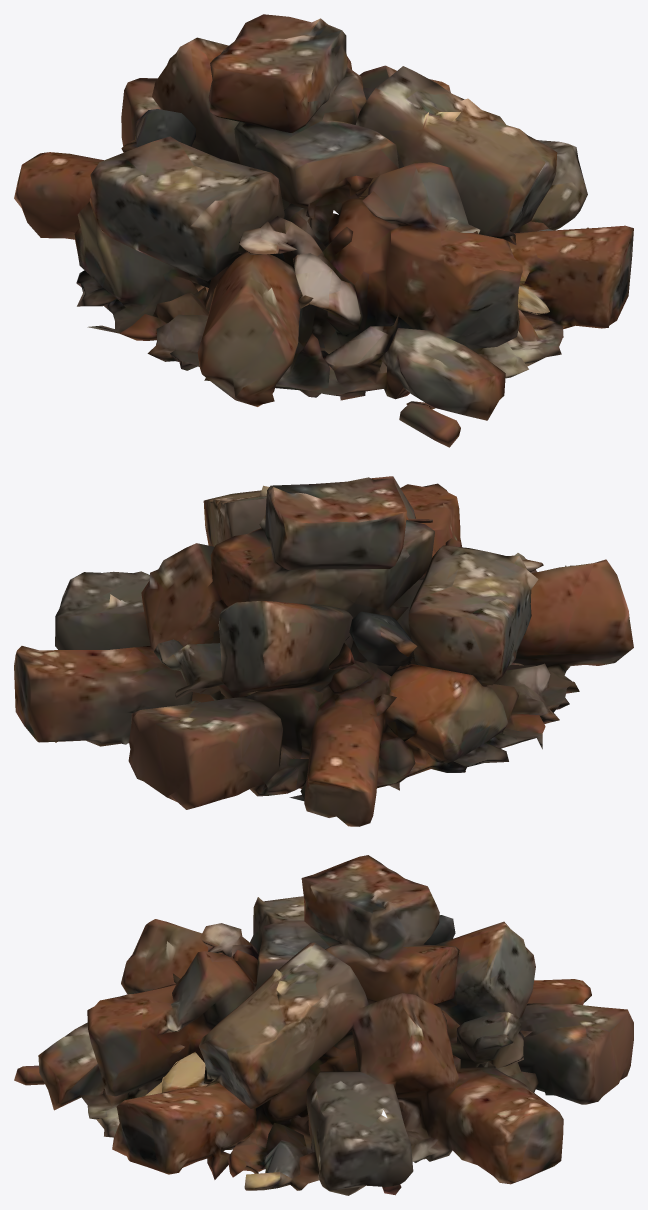
File: de_debris.glb
3 renders of one model, top to bottom at view 1: azimuth 30°, elevation 25°; view 2: azimuth 150°, elevation 25°; view 3: azimuth 270°, elevation 25°, orthographic. The views are drawn at different scales.
Parts seen in each view (by area): view 1: tripo_node_c0c8ecf8-65a6-4a5c-b1c4-9c613c1eb1b3; view 2: tripo_node_c0c8ecf8-65a6-4a5c-b1c4-9c613c1eb1b3; view 3: tripo_node_c0c8ecf8-65a6-4a5c-b1c4-9c613c1eb1b3.
Part boxes in pixels (<box>): tripo_node_c0c8ecf8-65a6-4a5c-b1c4-9c613c1eb1b3: <box>14,14,633,447</box>; tripo_node_c0c8ecf8-65a6-4a5c-b1c4-9c613c1eb1b3: <box>14,476,633,826</box>; tripo_node_c0c8ecf8-65a6-4a5c-b1c4-9c613c1eb1b3: <box>14,855,633,1195</box>.
Size of the model in its own units: 0.7939 by 0.3928 by 1.
1 material, 1 textured.
